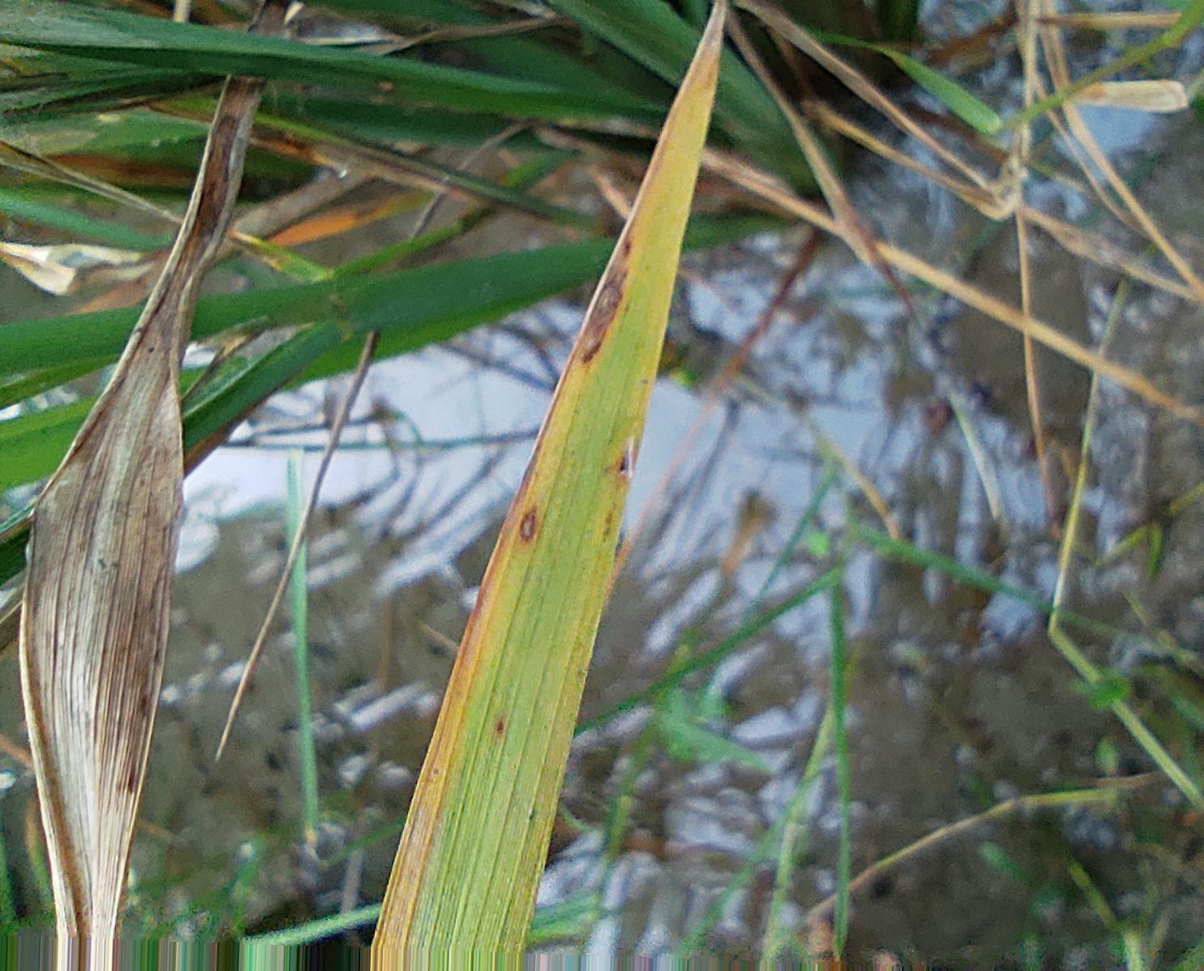LEAF: (371, 0, 727, 948)
LEAF BLAST: (583, 222, 635, 365), (519, 505, 535, 544)
